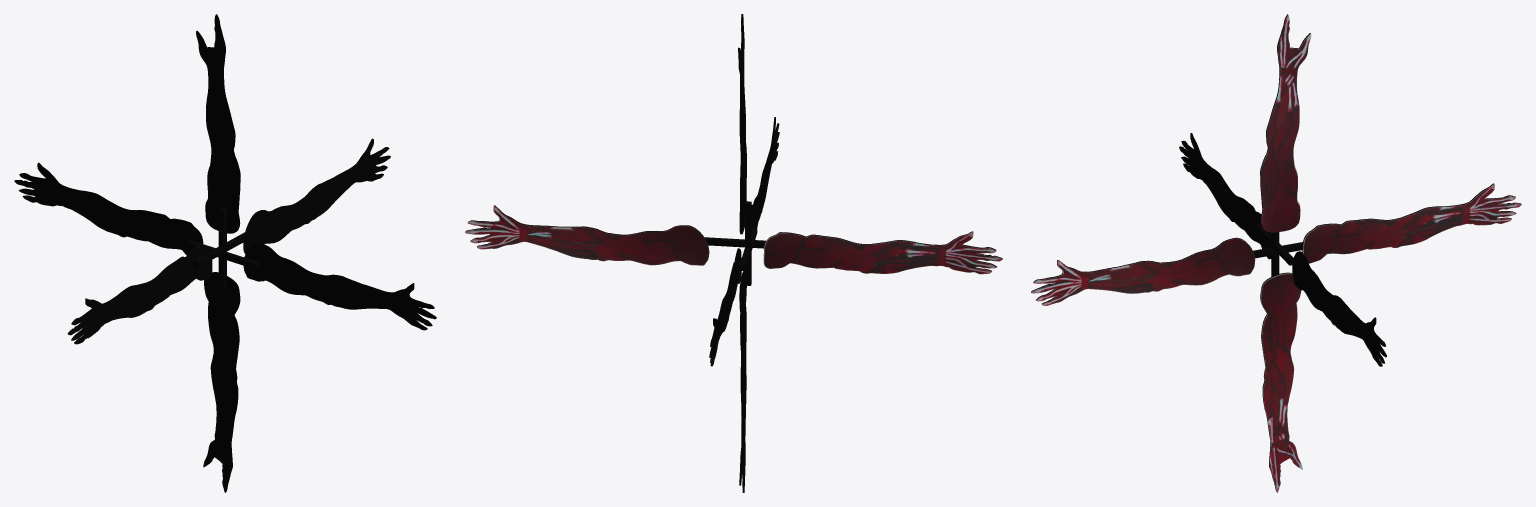
Rendered from modelo-transformed.glb.
3 views of the same model, side by side, from view 1: azimuth 30°, elevation 25°; view 2: azimuth 150°, elevation 25°; view 3: azimuth 270°, elevation 25° (orthographic).
Visible parts, largest first — view 1: Curve010_1; view 2: Curve010_4, Curve010, Curve010_1; view 3: Curve010_1, Curve010, Curve010_4, Curve010_2, Curve010_3.
Boxes of the visible parts, bbox=[...] form: Curve010_1: bbox=[14, 14, 436, 492]; Curve010_4: bbox=[709, 232, 1002, 364]; Curve010: bbox=[465, 206, 708, 265]; Curve010_1: bbox=[465, 14, 1002, 492]; Curve010_1: bbox=[1031, 14, 1520, 491]; Curve010: bbox=[1031, 238, 1255, 305]; Curve010_4: bbox=[1186, 133, 1521, 263]; Curve010_2: bbox=[1260, 15, 1311, 232]; Curve010_3: bbox=[1261, 273, 1302, 492].
Size of the model in its own units: 1.66 by 1.77 by 1.66.
5 materials, 4 textured.
